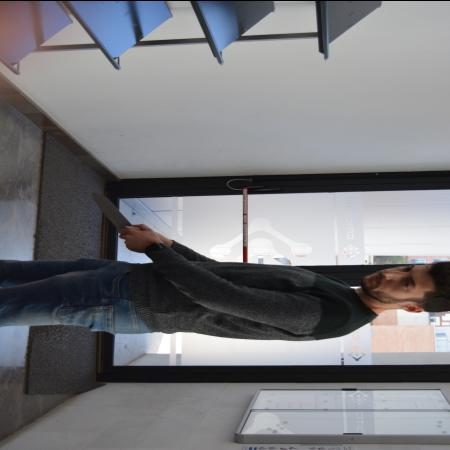long weapon: (89, 189, 139, 235)
